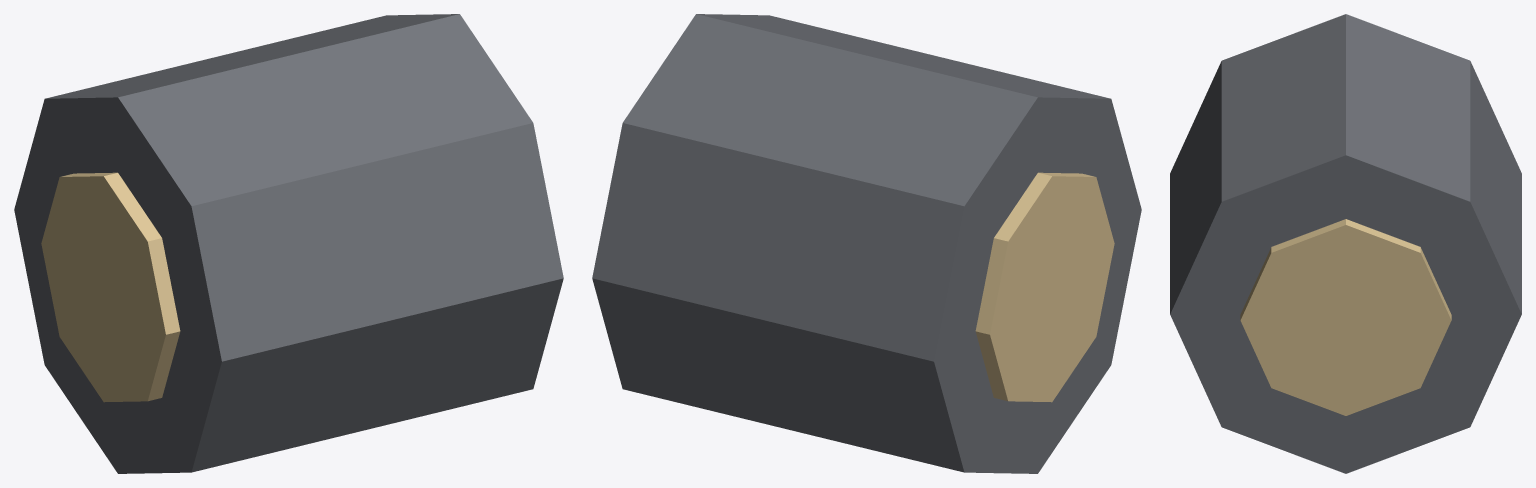
Rendered from bastion.jaw_hinge.glb.
3 views of the same model, side by side, from view 1: azimuth 30°, elevation 25°; view 2: azimuth 150°, elevation 25°; view 3: azimuth 270°, elevation 25° (orthographic). The views are drawn at different scales.
Size of the model in its own units: 0.309 by 0.3 by 0.3.
